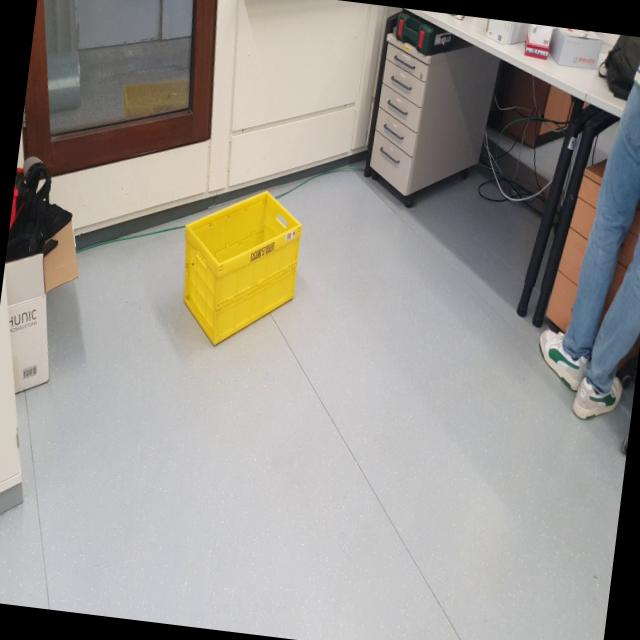box: (169, 181, 310, 367)
